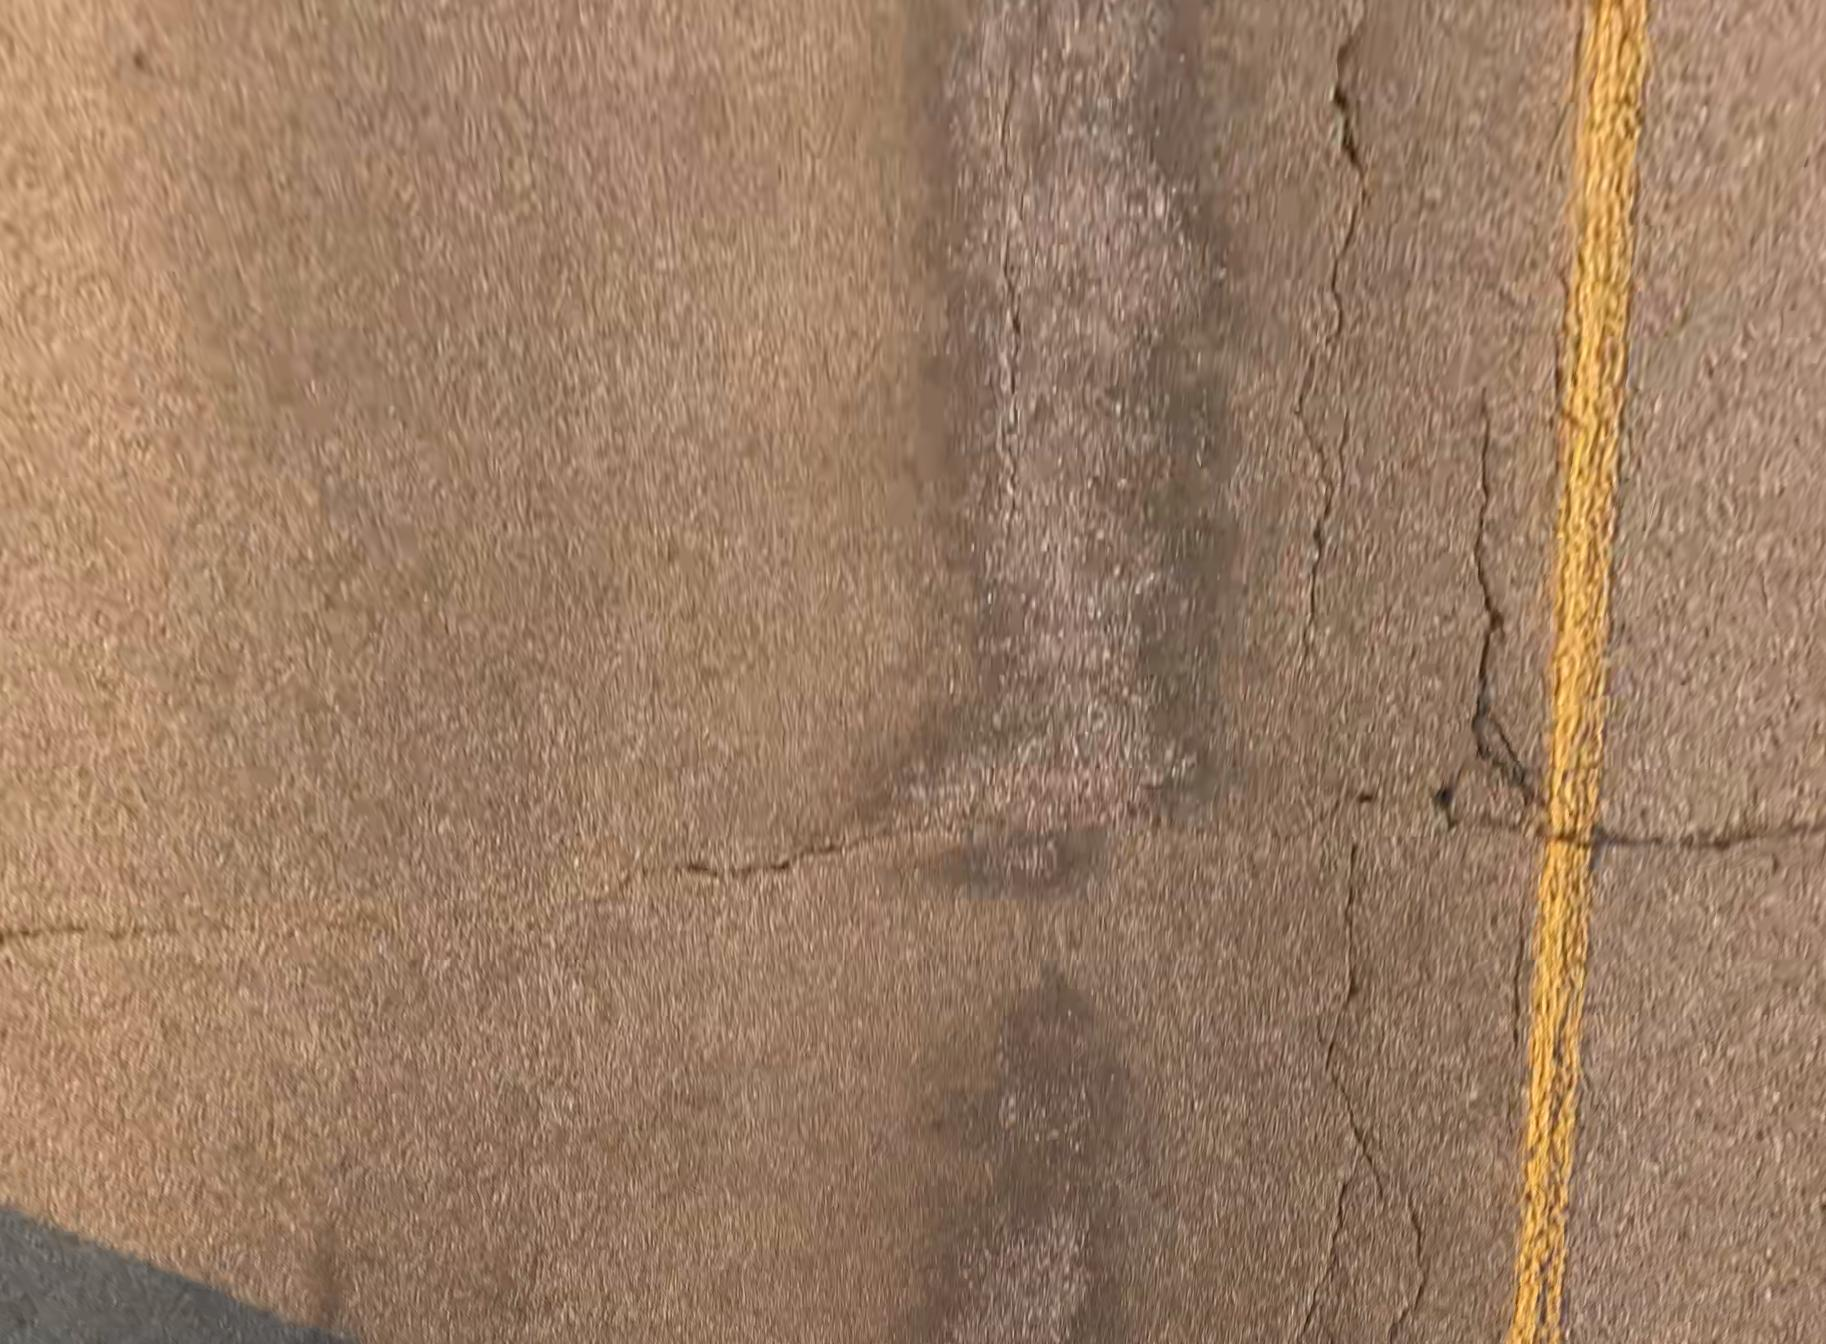pothole_patch_good: (943, 967, 1126, 1344)
pothole_patch_poor: (887, 1, 1238, 902)
